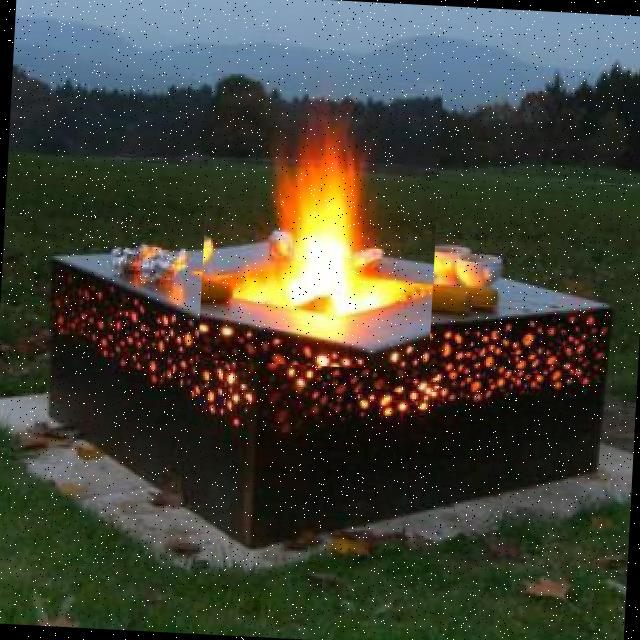fire: (197, 72, 443, 372)
